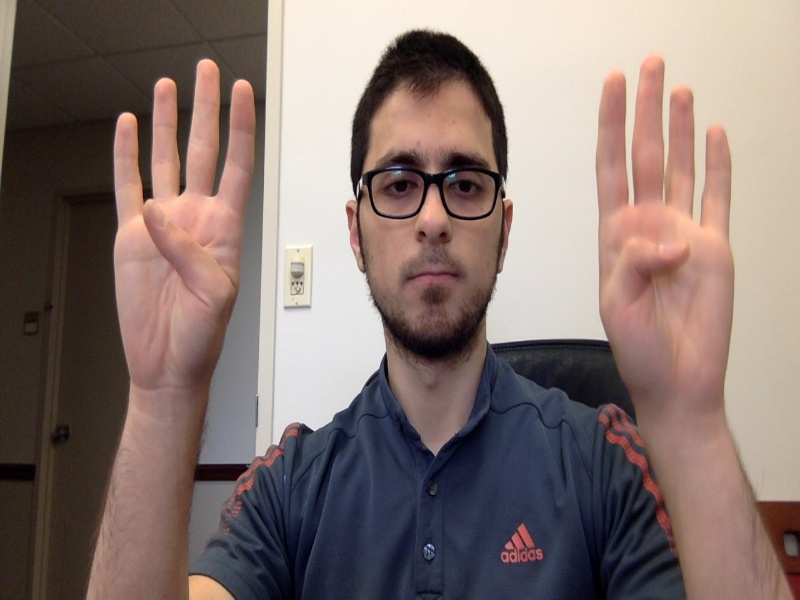4-hand: (595, 56, 736, 410), (113, 58, 254, 390)
